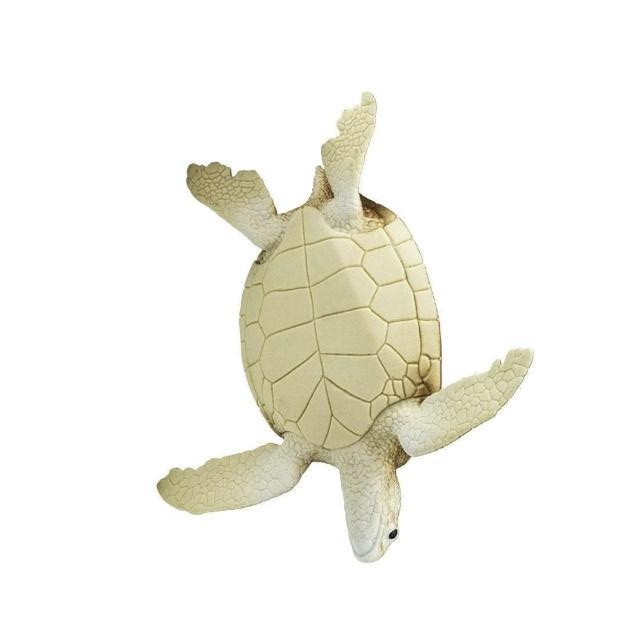turtle: (155, 91, 537, 565)
